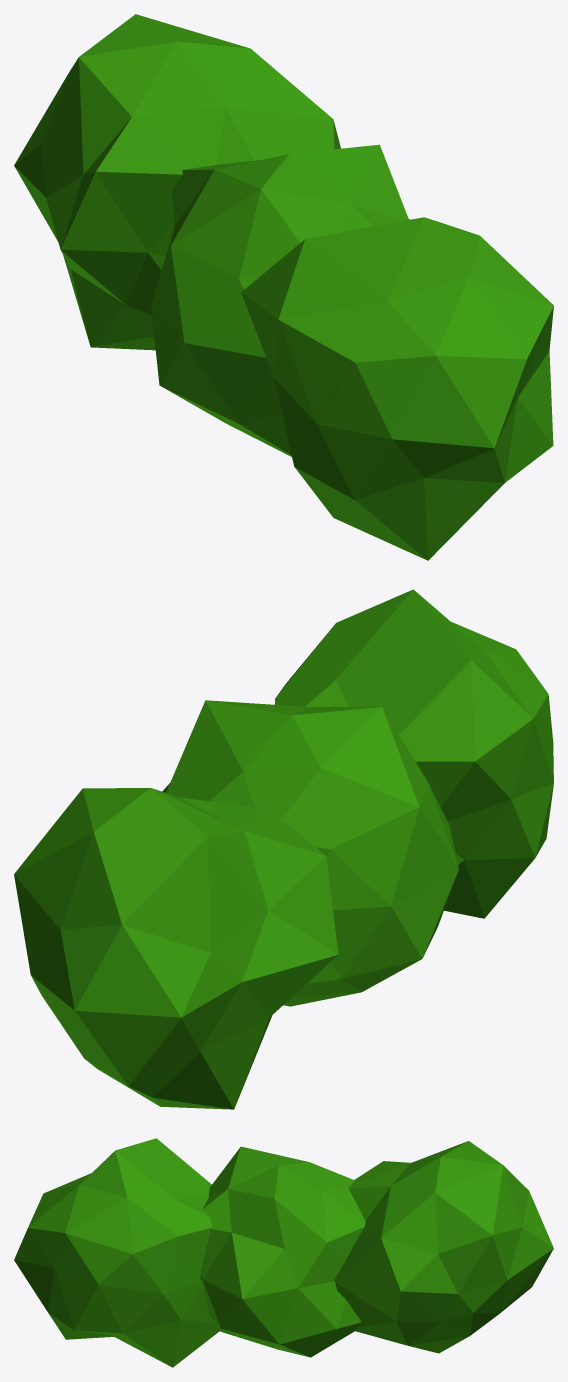
The model's file is Bush1.fbx.
3 views of the same model, one above another, from view 1: azimuth 30°, elevation 25°; view 2: azimuth 150°, elevation 25°; view 3: azimuth 270°, elevation 25° (orthographic). The views are drawn at different scales.
Visible parts, largest first — view 1: Icosphere.002; view 2: Icosphere.002; view 3: Icosphere.002.
Part boxes in pixels (x1=…): Icosphere.002: x1=14, y1=14, x2=553, y2=560; Icosphere.002: x1=14, y1=589, x2=553, y2=1109; Icosphere.002: x1=14, y1=1138, x2=553, y2=1367.
Bounding box in the file's own units: 214 × 222 × 532.
